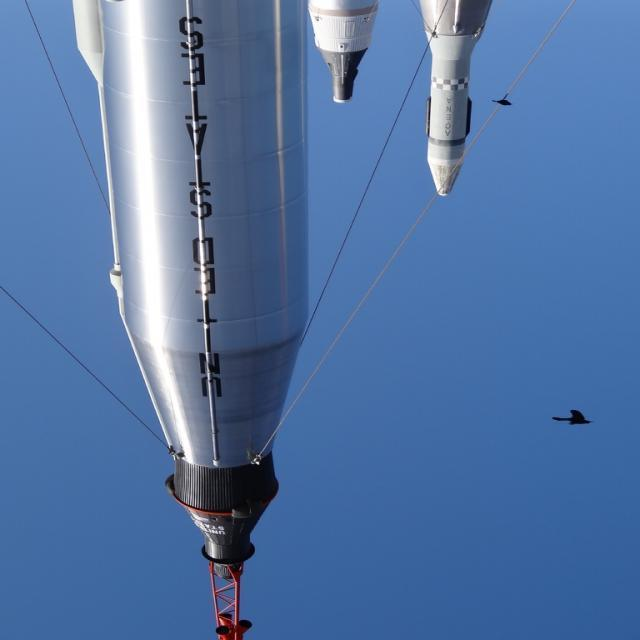missile: (67, 1, 310, 640)
